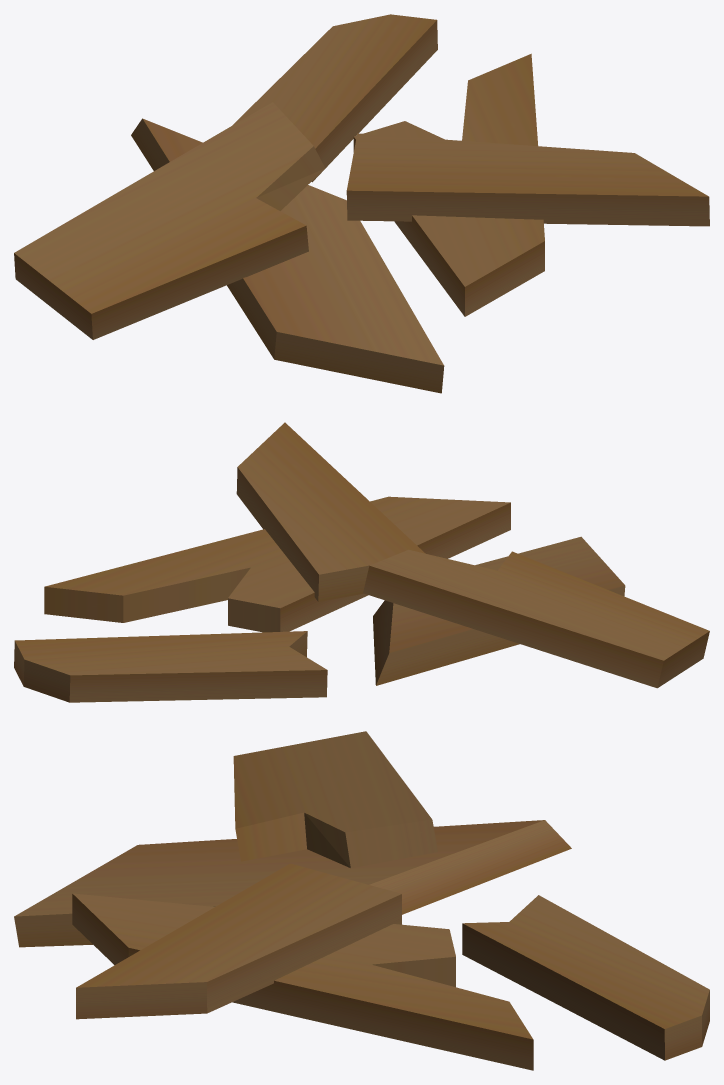
File: Wood_3.fbx
3 renders of one model, top to bottom at view 1: azimuth 30°, elevation 25°; view 2: azimuth 150°, elevation 25°; view 3: azimuth 270°, elevation 25°, orthographic. The views are drawn at different scales.
Visible parts, largest first — view 1: polySurface9773; view 2: polySurface9773; view 3: polySurface9773.
Part boxes in pixels (<box>): polySurface9773: <box>14,14,709,393</box>; polySurface9773: <box>14,422,709,702</box>; polySurface9773: <box>14,731,709,1070</box>.
Size of the model in its own units: 202 by 44.51 by 196.
